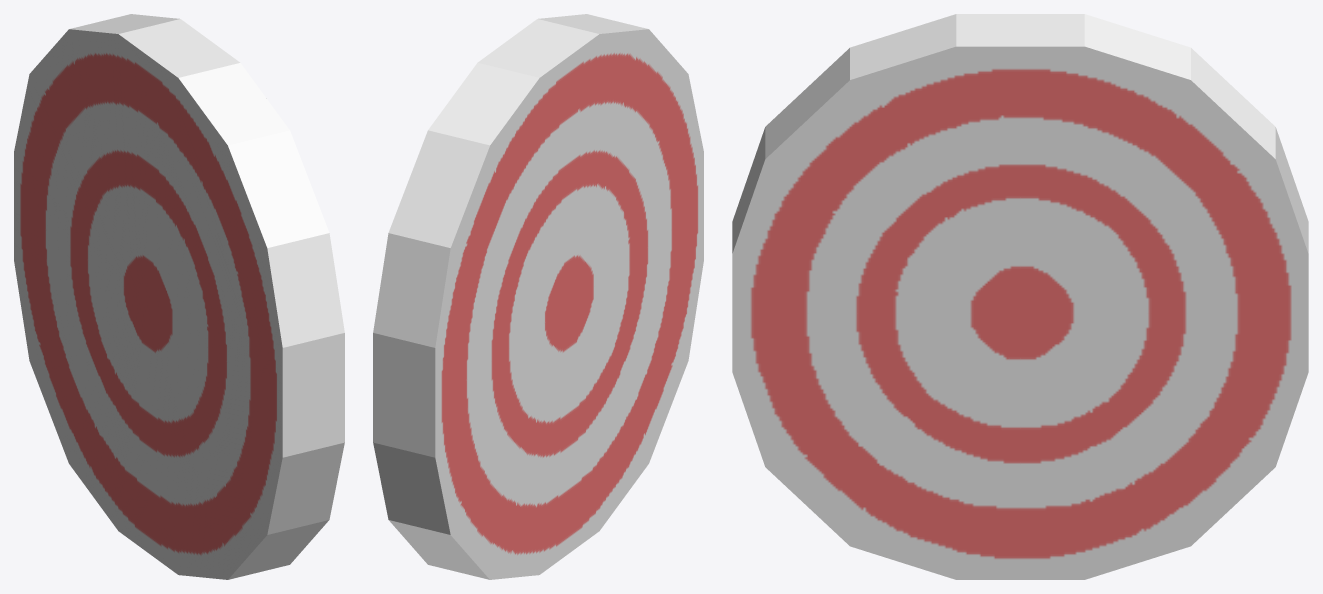
The model's file is Target Red.fbx.
3 views of the same model, side by side, from view 1: azimuth 30°, elevation 25°; view 2: azimuth 150°, elevation 25°; view 3: azimuth 270°, elevation 25° (orthographic). The views are drawn at different scales.
Parts seen in each view (by area): view 1: Target Red; view 2: Target Red; view 3: Target Red.
Boxes of the visible parts, x1,y1,x2,y2 form: Target Red: (14, 14, 344, 579); Target Red: (373, 14, 703, 579); Target Red: (732, 14, 1308, 579).
Bounding box in the file's own units: 32.83 × 251 × 246.
